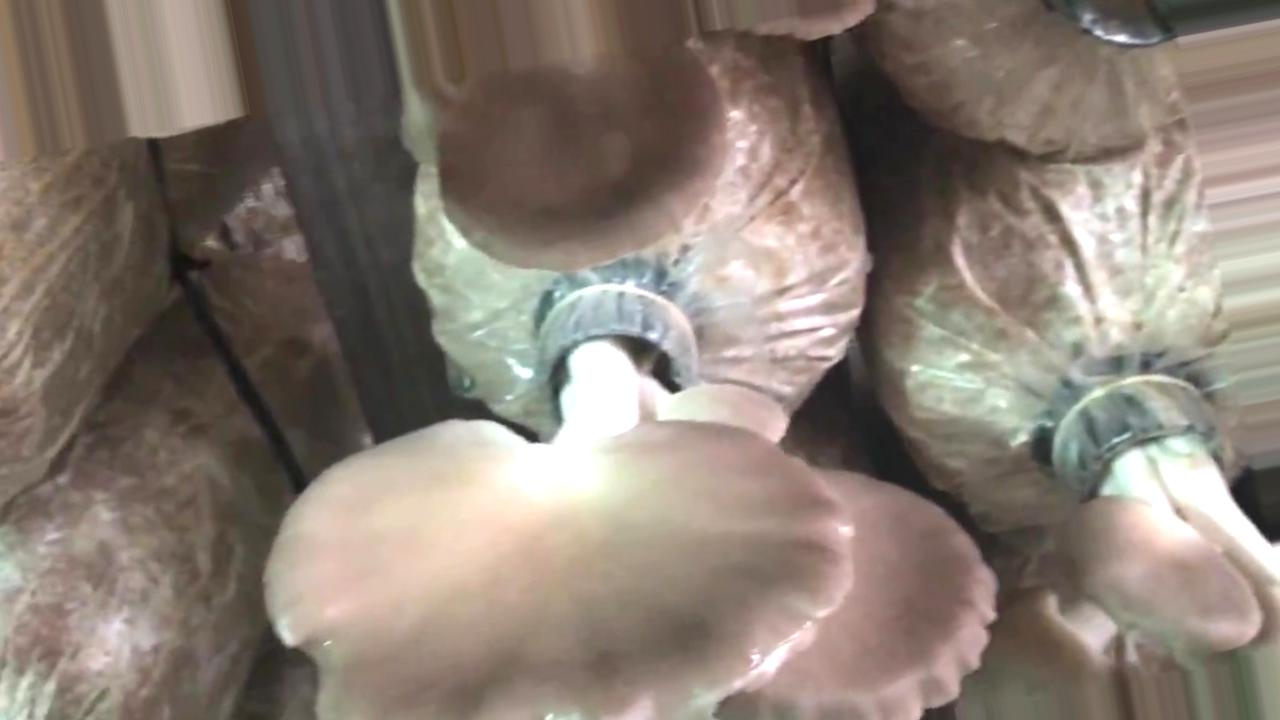nam: (262, 262, 853, 720), (960, 377, 1277, 720), (428, 34, 732, 277), (724, 470, 1000, 720)
